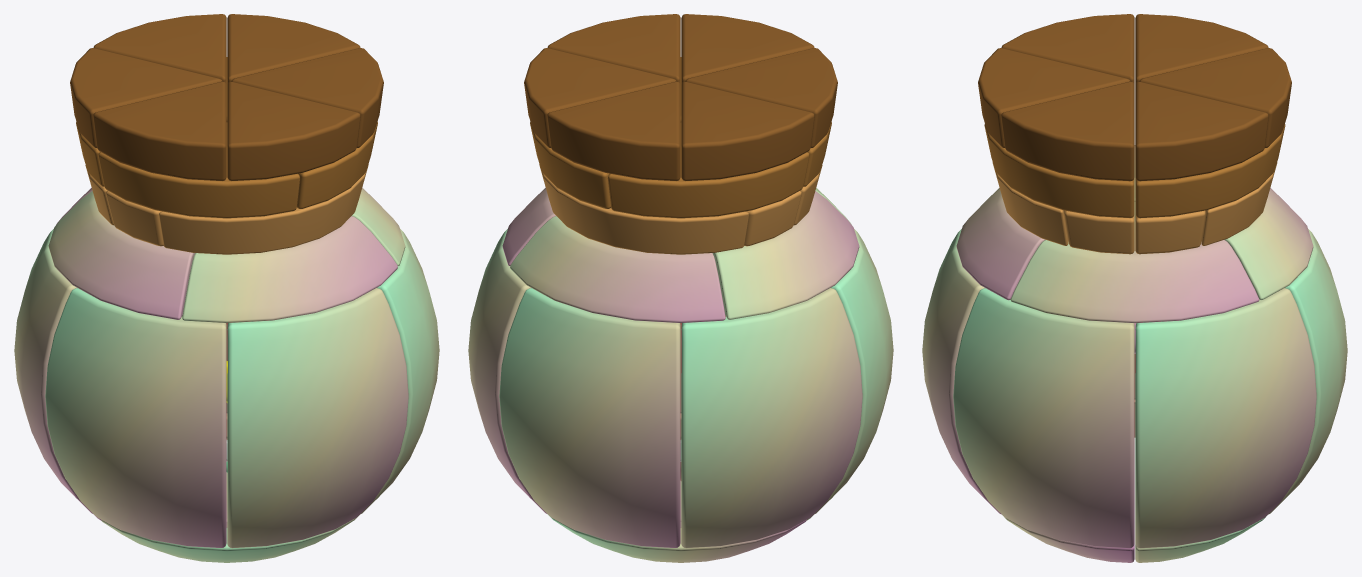
Rendered from Level_StarBall_4.fbx.
The picture shows the model from 3 angles, left to right: view 1: azimuth 30°, elevation 25°; view 2: azimuth 150°, elevation 25°; view 3: azimuth 270°, elevation 25°; orthographic projection.
Visible parts, largest first — view 1: StarBall_06, StarBall_07, StarBall_10, StarBall_11, StarBall_26, StarBall_21, StarBall_18, StarBall_13, StarBall_08, StarBall_05, StarBall_22, StarBall_25 (+8 smaller); view 2: StarBall_08, StarBall_03, StarBall_12, StarBall_11, StarBall_24, StarBall_25, StarBall_19, StarBall_14, StarBall_04, StarBall_07, StarBall_23, StarBall_26 (+8 smaller); view 3: StarBall_04, StarBall_05, StarBall_09, StarBall_22, StarBall_23, StarBall_06, StarBall_03, StarBall_24, StarBall_21, StarBall_25, StarBall_26, StarBall_10 (+9 smaller).
Boxes of the visible parts, x1,y1,x2,y2 form: StarBall_06: (227,288,408,548); StarBall_07: (45,288,226,547); StarBall_10: (182,216,397,322); StarBall_11: (48,191,195,319); StarBall_26: (93,81,226,180); StarBall_21: (227,81,360,180); StarBall_18: (98,122,299,218); StarBall_13: (159,164,368,254); StarBall_08: (14,229,92,513); StarBall_05: (360,229,439,514); StarBall_22: (231,48,383,147); StarBall_25: (70,48,222,147); StarBall_08: (681,288,862,548); StarBall_03: (499,288,680,547); StarBall_12: (510,216,725,322); StarBall_11: (712,191,859,319); StarBall_24: (547,81,680,180); StarBall_25: (681,81,814,180); StarBall_19: (607,122,809,218); StarBall_14: (539,164,748,254); StarBall_04: (468,229,546,513); StarBall_07: (814,229,893,514); StarBall_23: (524,48,676,147); StarBall_26: (685,48,837,147); StarBall_04: (1135,288,1316,548); StarBall_05: (953,288,1134,548); StarBall_09: (1010,202,1259,323); StarBall_22: (1001,81,1134,181); StarBall_23: (1135,81,1268,181); StarBall_06: (922,229,1001,514); StarBall_03: (1268,229,1347,514); StarBall_24: (1139,48,1291,147); StarBall_21: (978,48,1130,147); StarBall_25: (1135,14,1268,84); StarBall_26: (1001,14,1134,84); StarBall_10: (956,188,1045,300).
Size of the model in its own units: 0.0426 by 0.0515 by 0.0427.
